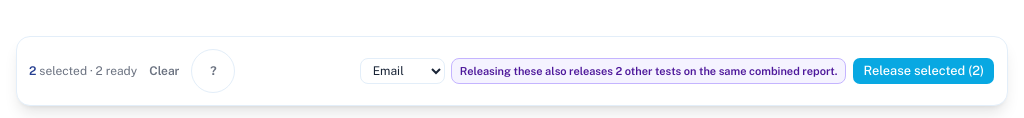
Test case: BulkActionBar release (#261 whole reports) › reports the count, the pulled-in tests and each skipped reason in the outcome panel
The width and height of the screenshot is (1024, 118).
What coordinates should you click on to do the following:
click the button "Release selected (2)"
I would click on:
 (924, 71)
Its box is [852, 57, 995, 85].
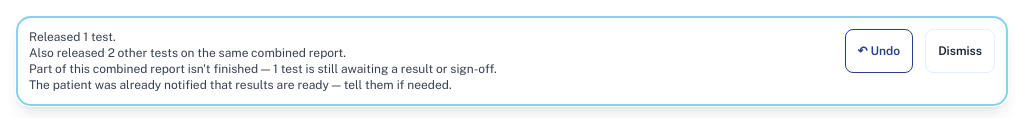
Expected: the text "Also released 2 other tests" shows "Released 1 test.", [29, 30, 497, 92]
Expected: the text "Also released 2 other tests" shows "Part of this combined report isn't finished — 1 test is still awaiting a result or sign-off.", [29, 30, 497, 92]
Expected: the button "↶ Undo" is shown, [845, 29, 913, 73]
